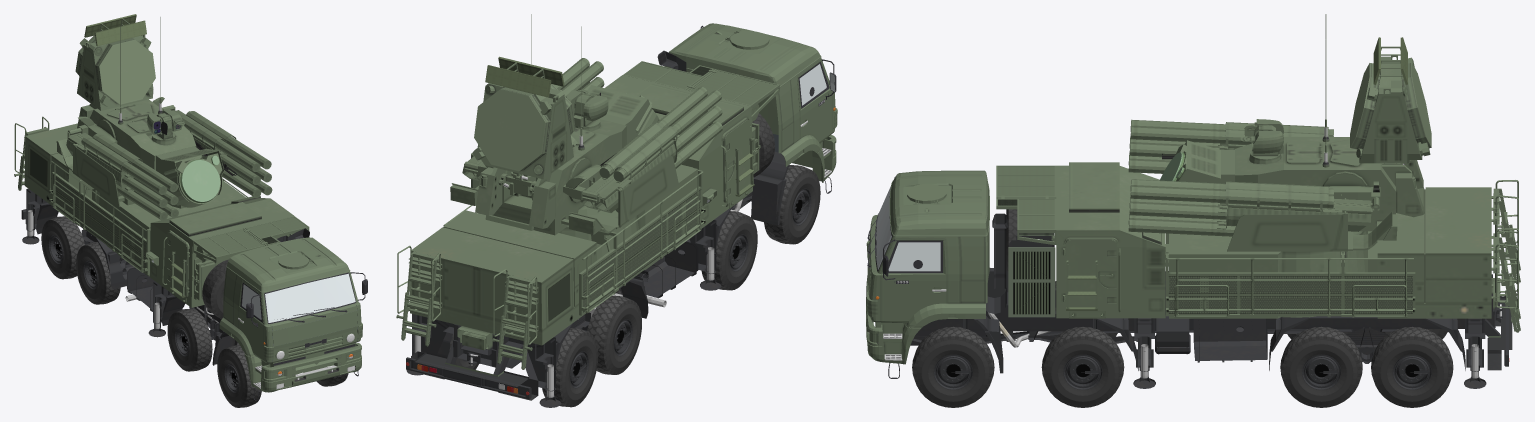
The model's file is pantsir_s2.glb.
3 views of the same model, side by side, from view 1: azimuth 30°, elevation 25°; view 2: azimuth 150°, elevation 25°; view 3: azimuth 270°, elevation 25° (orthographic). The views are drawn at different scales.
Parts seen in each view (by area): view 1: [Imported] $body, [Imported] $weapon0, [Imported] Missile, [Imported] $wheel3, [Imported] $wheel5, [Imported] $wheel1, [Imported] $wheel4, [Imported] $canopy1, [Imported] $canopy4, [Imported] $weapon0_0, [Imported] $weapon0_1, [Imported] $hatch0 (+1 smaller); view 2: [Imported] $body, [Imported] $weapon0, [Imported] Missile, [Imported] $wheel4, [Imported] $wheel5, [Imported] $wheel1, [Imported] $wheel3, [Imported] $canopy1, [Imported] $canopy4, [Imported] $weapon0_0, [Imported] $hatch0, [Imported] $weapon0_1 (+1 smaller); view 3: [Imported] $body, [Imported] $weapon0, [Imported] Missile, [Imported] $wheel5, [Imported] $wheel4, [Imported] $wheel0, [Imported] $wheel2, [Imported] $canopy0, [Imported] $canopy3, [Imported] $weapon0_0, [Imported] $weapon0_1, [Imported] $hatch0 (+1 smaller).
Boxes of the visible parts, x1,y1,x2,y2 form: [Imported] $body: [14, 116, 362, 400]; [Imported] $weapon0: [56, 14, 224, 208]; [Imported] Missile: [66, 110, 272, 220]; [Imported] $wheel3: [167, 308, 212, 371]; [Imported] $wheel5: [41, 216, 84, 279]; [Imported] $wheel1: [217, 345, 261, 407]; [Imported] $wheel4: [76, 242, 120, 304]; [Imported] $canopy1: [238, 280, 263, 361]; [Imported] $canopy4: [166, 231, 189, 298]; [Imported] $weapon0_0: [67, 97, 260, 204]; [Imported] $weapon0_1: [147, 109, 184, 134]; [Imported] $hatch0: [22, 210, 165, 337]; [Imported] $body: [396, 23, 837, 400]; [Imported] $weapon0: [450, 14, 678, 235]; [Imported] Missile: [462, 58, 722, 212]; [Imported] $wheel4: [587, 295, 641, 374]; [Imported] $wheel5: [449, 328, 598, 407]; [Imported] $wheel1: [764, 165, 820, 244]; [Imported] $wheel3: [701, 211, 757, 290]; [Imported] $canopy1: [797, 59, 836, 143]; [Imported] $canopy4: [722, 119, 754, 203]; [Imported] $weapon0_0: [464, 77, 616, 202]; [Imported] $hatch0: [406, 247, 721, 407]; [Imported] $weapon0_1: [566, 89, 608, 121]; [Imported] $body: [866, 162, 1520, 378]; [Imported] $weapon0: [1159, 14, 1431, 251]; [Imported] Missile: [1128, 119, 1372, 236]; [Imported] $wheel5: [1371, 326, 1453, 407]; [Imported] $wheel4: [1280, 326, 1362, 407]; [Imported] $wheel0: [912, 326, 994, 407]; [Imported] $wheel2: [1041, 327, 1124, 407]; [Imported] $canopy0: [881, 239, 946, 323]; [Imported] $canopy3: [1063, 239, 1116, 311]; [Imported] $weapon0_0: [1129, 143, 1380, 212]; [Imported] $weapon0_1: [1240, 119, 1283, 153]; [Imported] $hatch0: [1133, 344, 1486, 388].
Bounding box in the file's own units: 2.99 × 6.38 × 10.81.
1 material, 1 textured.
